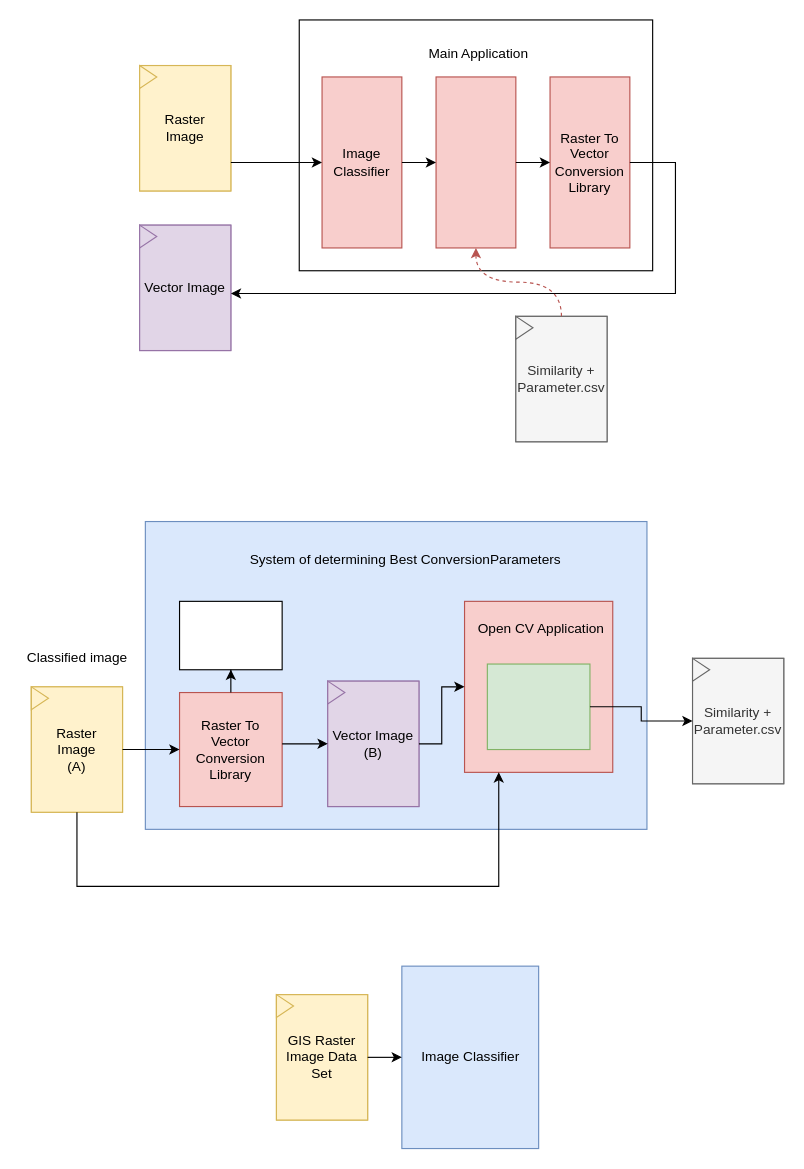
Some shapes in this 804 by 1169 pixel diagram are drawn without their labels. Each missing label, with the centre of its shape:
"Check Similarity between A and B" belongs at [538,706].
"Parameter Tester" belongs at [230,635].
"System of determining Best Conversion Parameters" belongs at [475,162].
